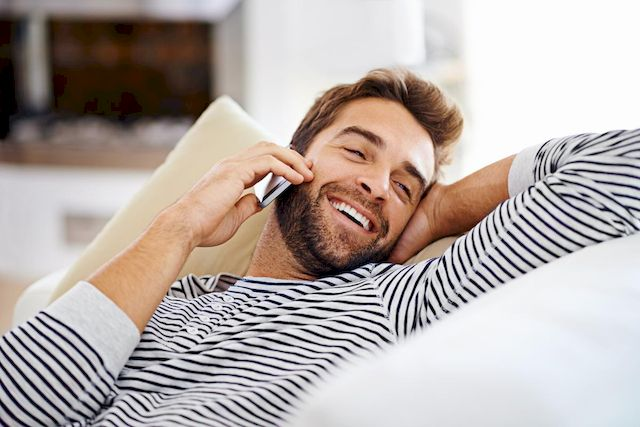phone: (250, 156, 300, 204)
talk: (194, 120, 427, 275)
